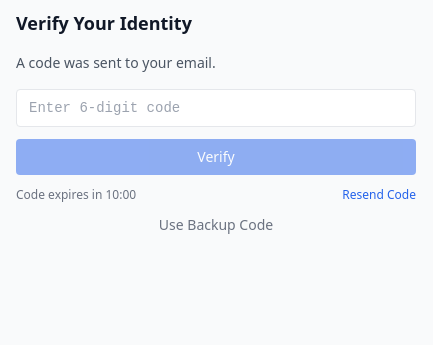
MFAChallenge › Email MFA verification › preserves lockout retry detail from non-Error API failures
The width and height of the screenshot is (433, 345).
In the field with test id "mfa-code-input": (216, 108) x1=16 y1=89 x2=416 y2=127, type "111111"
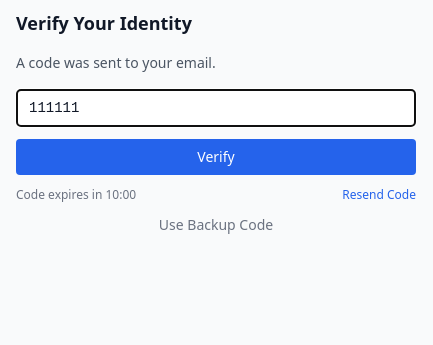
Click the button "Verify": (216, 157) x1=16 y1=139 x2=416 y2=175
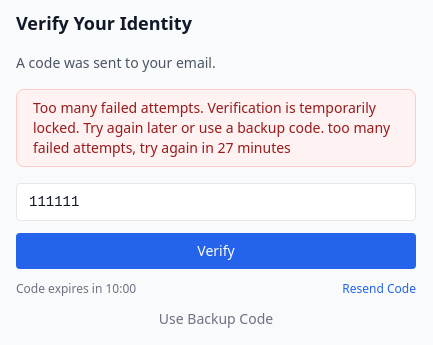
Check: the text "27 minutes" is shown, box x1=33 y1=98 x2=390 y2=157
